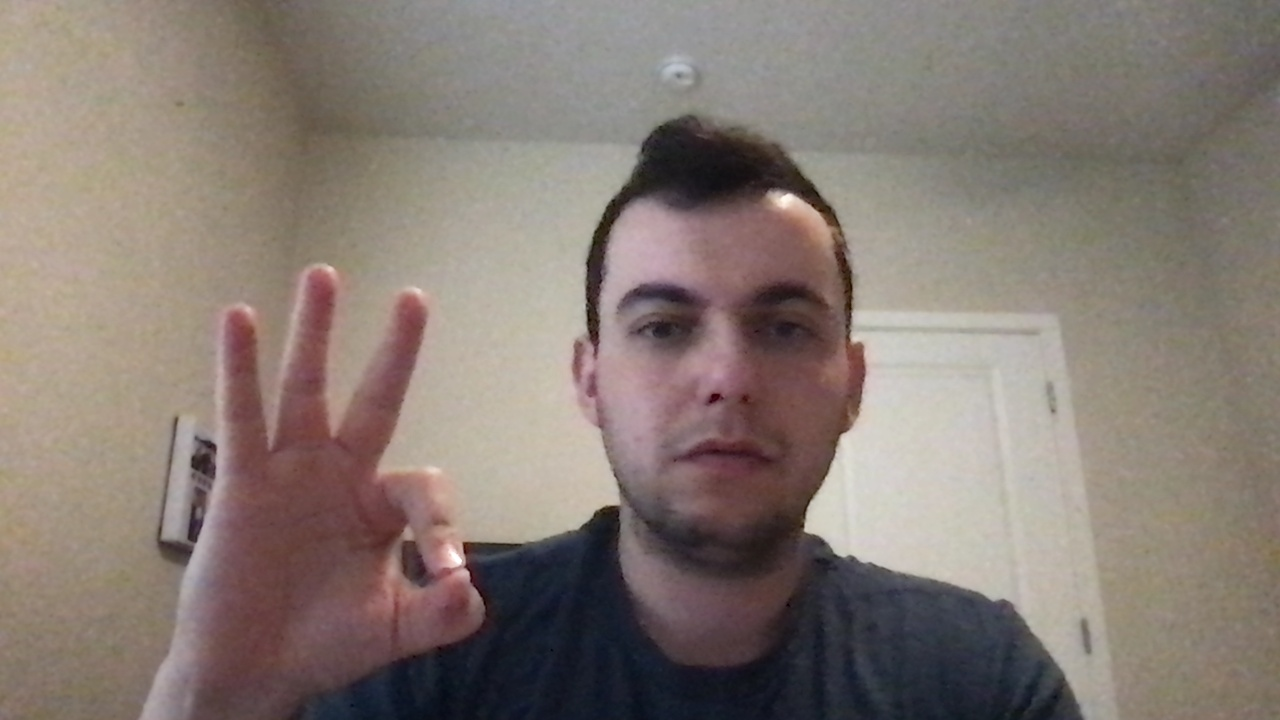f: (152, 251, 521, 690)
